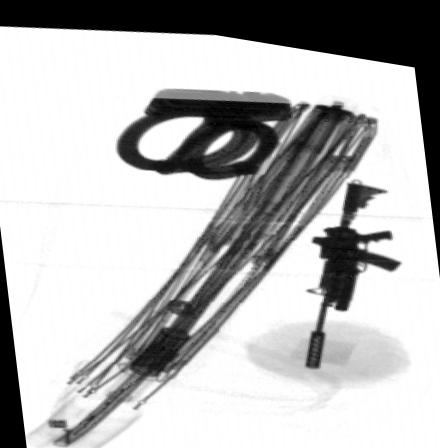Gun: (301, 165, 403, 359)
HandCuffs: (112, 78, 290, 173)
